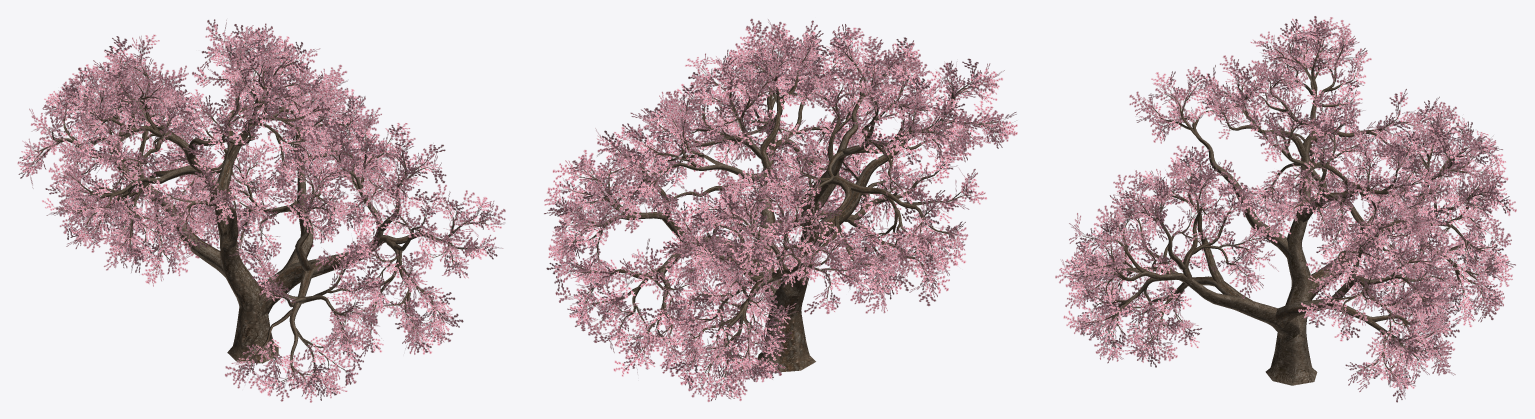
The model's file is my_tree_otp-transformed.glb.
3 renders of one model, left to right at view 1: azimuth 30°, elevation 25°; view 2: azimuth 150°, elevation 25°; view 3: azimuth 270°, elevation 25°, orthographic. The views are drawn at different scales.
Size of the model in its own units: 77.95 by 66.41 by 89.63.
Materials: 2 (2 with a texture image).
